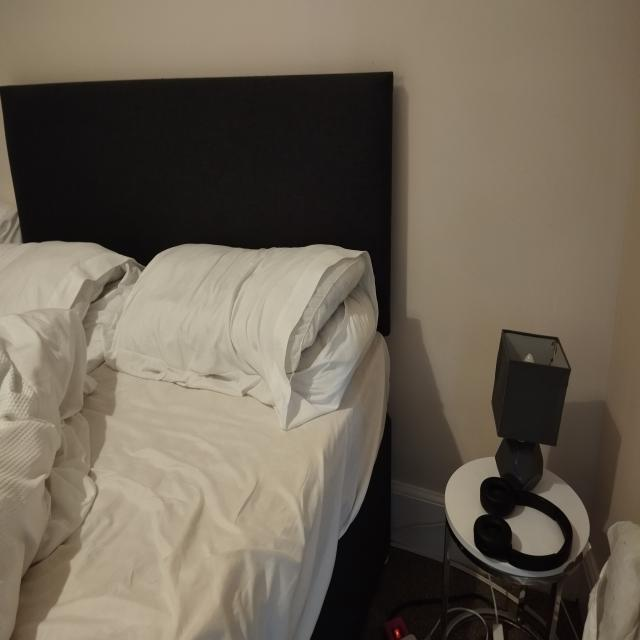bed: (0, 240, 391, 640)
lamp: (491, 331, 572, 489)
nighttable: (445, 457, 591, 578)
person: (87, 244, 378, 432), (0, 241, 134, 317)
